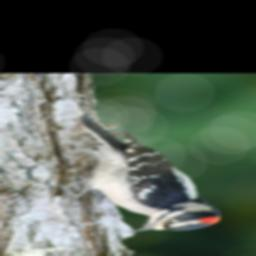Woodpecker: (67, 113, 226, 235)
